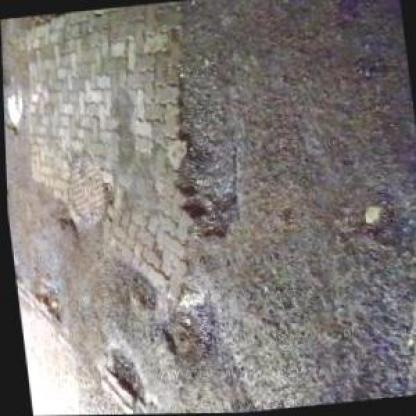pothole: (154, 57, 247, 241), (151, 282, 221, 367), (102, 344, 142, 406), (22, 268, 64, 324), (124, 268, 155, 309), (3, 88, 29, 134)
